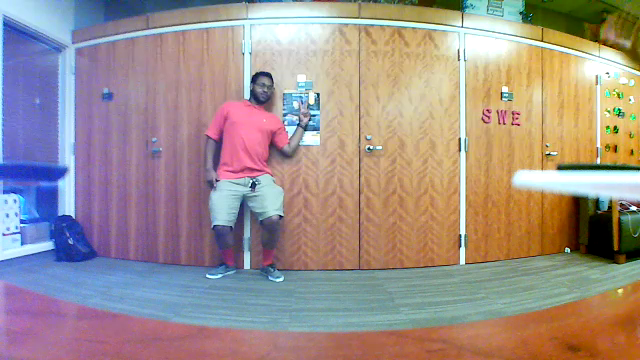peace: (296, 97, 315, 125)
